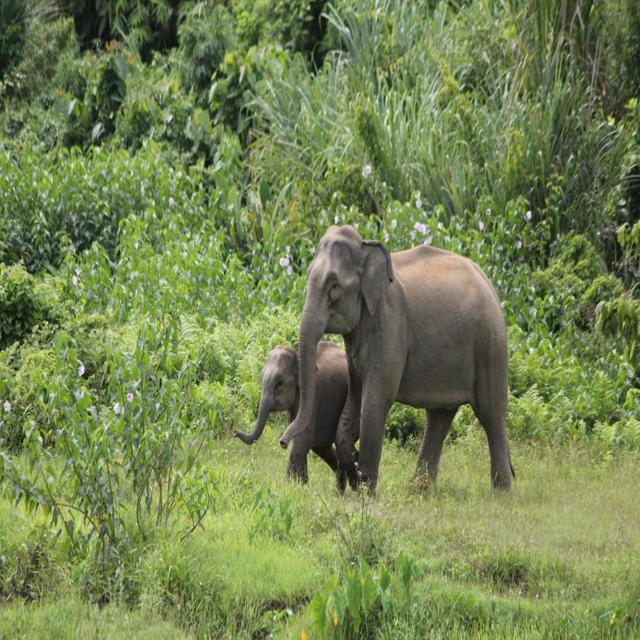elephant: (258, 193, 545, 521), (213, 319, 394, 514)
